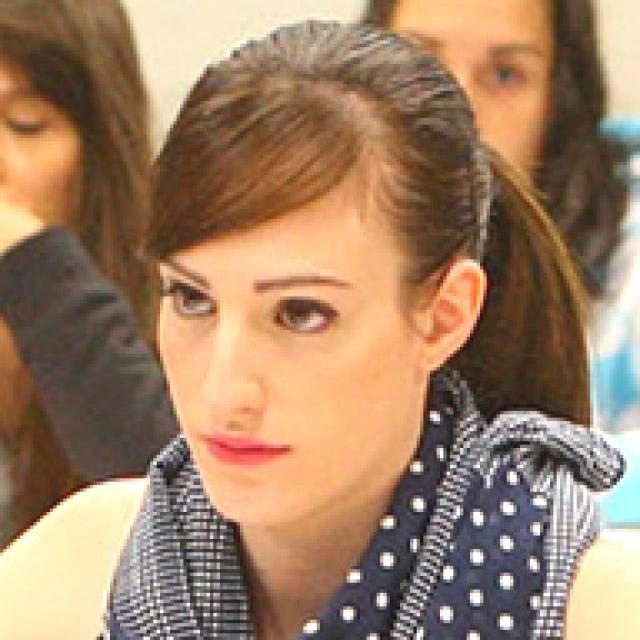Looking forward: (150, 232, 393, 526)
